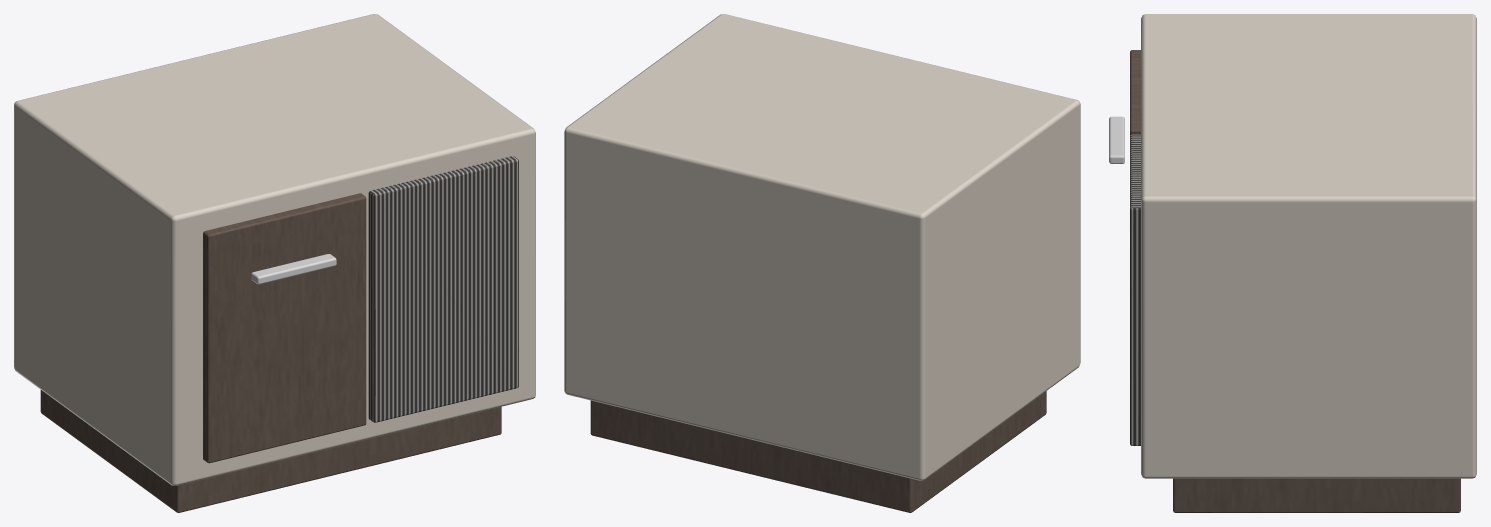
The model's file is talya-bedset-with-wardrobe--night.glb.
The picture shows the model from 3 angles, left to right: view 1: azimuth 30°, elevation 25°; view 2: azimuth 150°, elevation 25°; view 3: azimuth 270°, elevation 25°; orthographic projection. The views are drawn at different scales.
Parts seen in each view (by area): view 1: body, drawer, stripes, plinth, pull; view 2: body, plinth; view 3: body, plinth, stripes, drawer, pull.
Boxes of the visible parts, x1,y1,x2,y2 form: body: (14, 14, 535, 485); drawer: (203, 193, 366, 463); stripes: (368, 156, 518, 422); plinth: (40, 390, 501, 512); pull: (251, 254, 336, 284); body: (564, 14, 1080, 480); plinth: (590, 391, 1046, 512); body: (1141, 14, 1476, 478); plinth: (1173, 478, 1460, 512); stripes: (1130, 134, 1140, 445); drawer: (1130, 50, 1140, 135); pull: (1109, 116, 1124, 163).
Bounding box in the file's own units: 0.55 × 0.45 × 0.46.
Materials: 4 (2 with a texture image).
